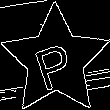P_N: (30, 31, 80, 90)
